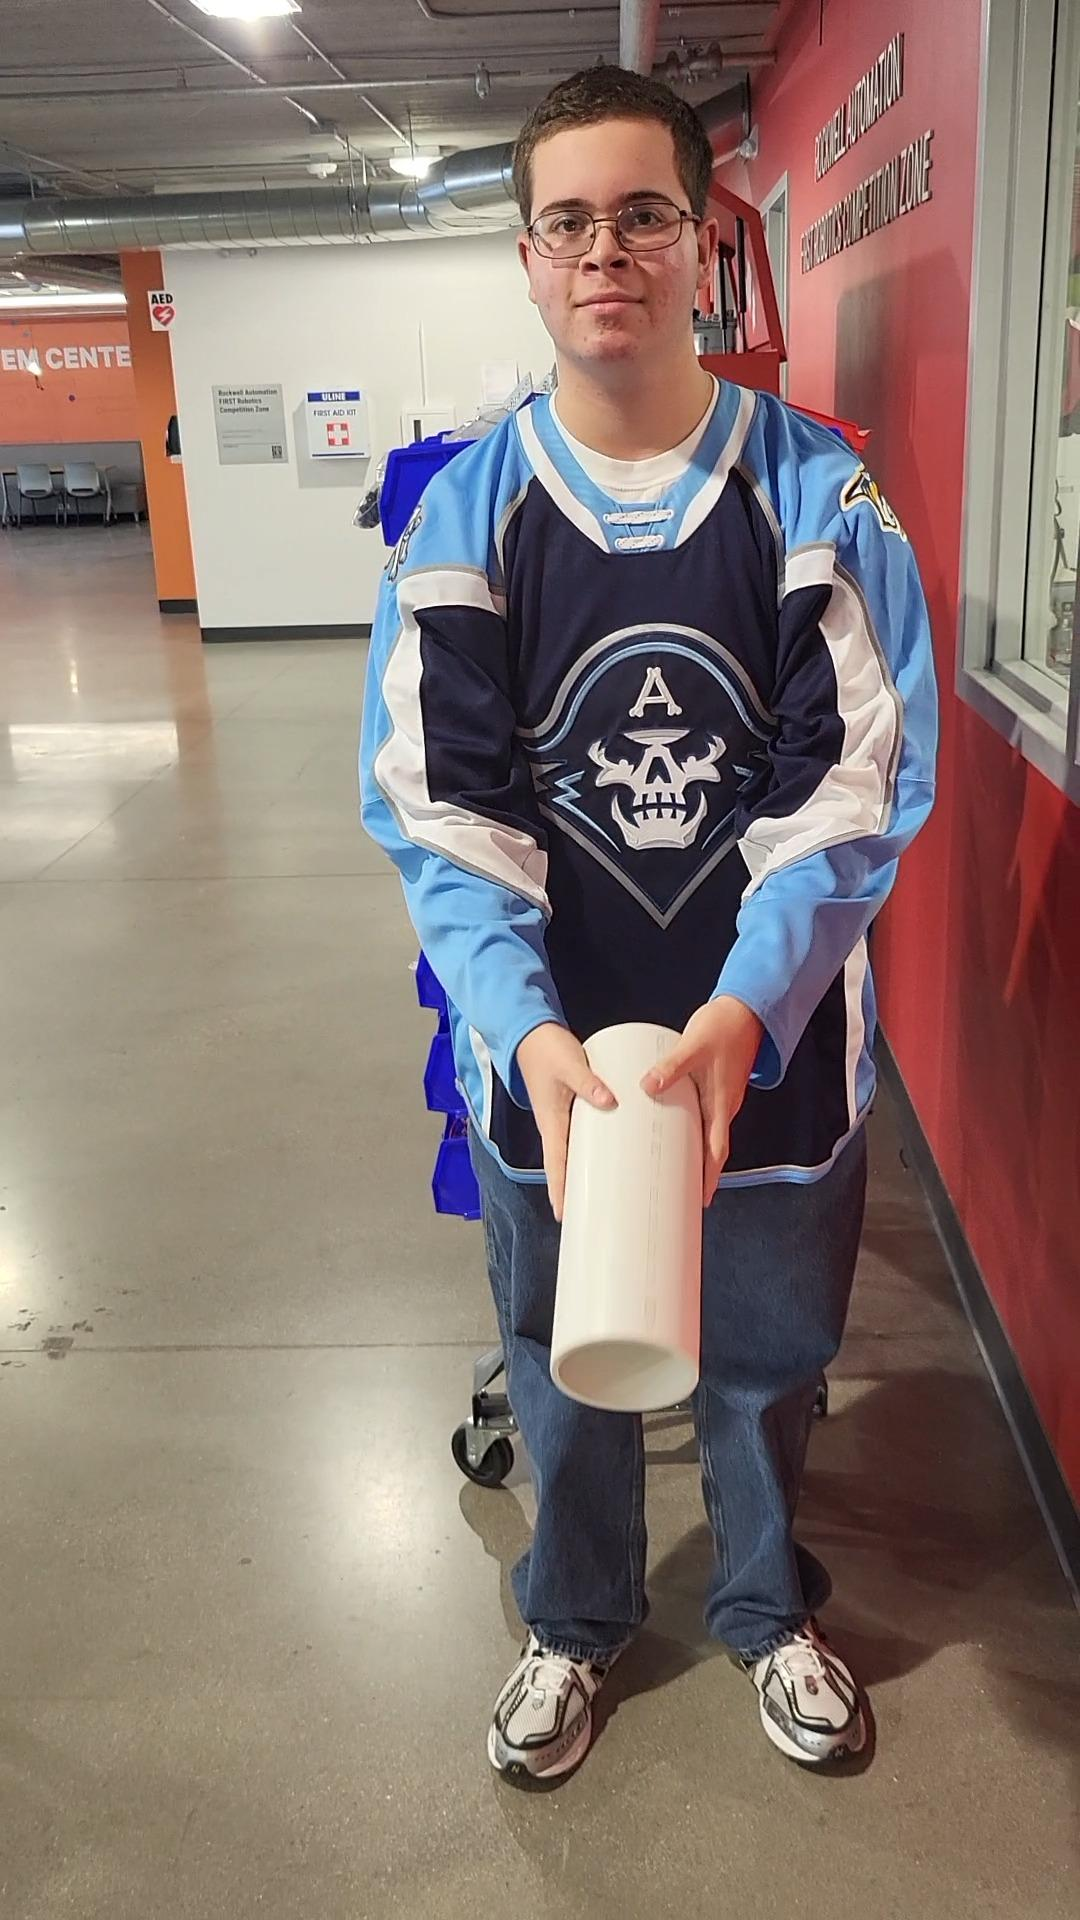coral: (550, 1011, 709, 1410)
